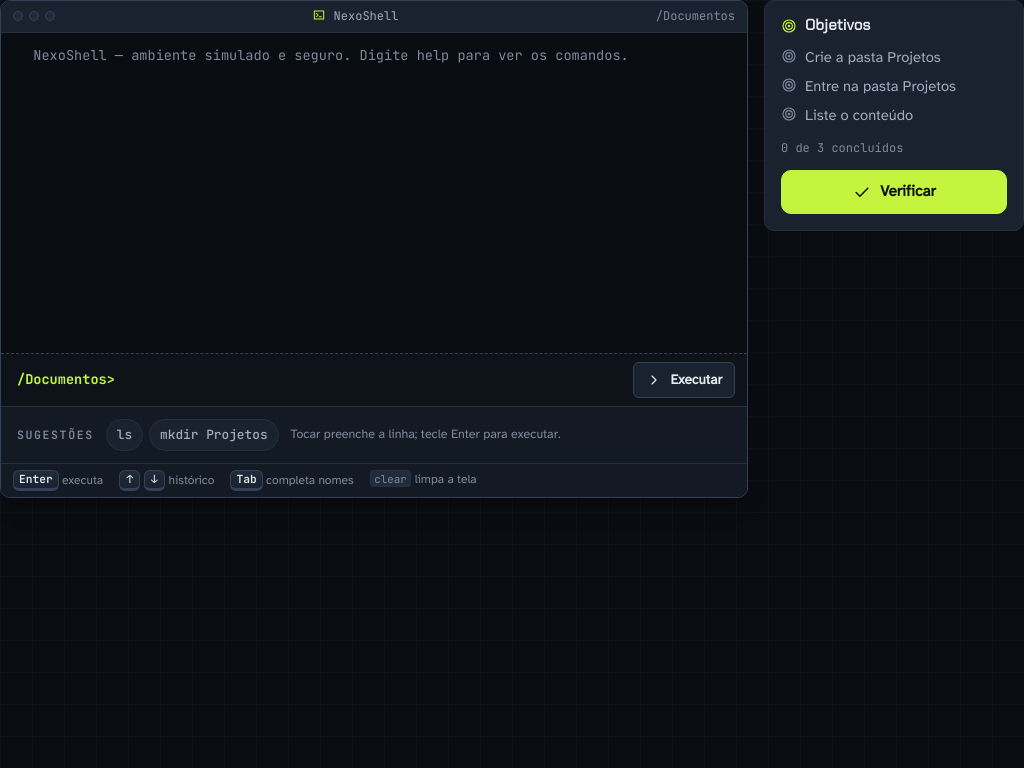
Test: TerminalChallenge › sugestões preenchem a linha sem executar
Click the button named "Preencher com mkdir Projetos" at x=214, y=435, box x1=149 y1=419 x2=279 y2=451
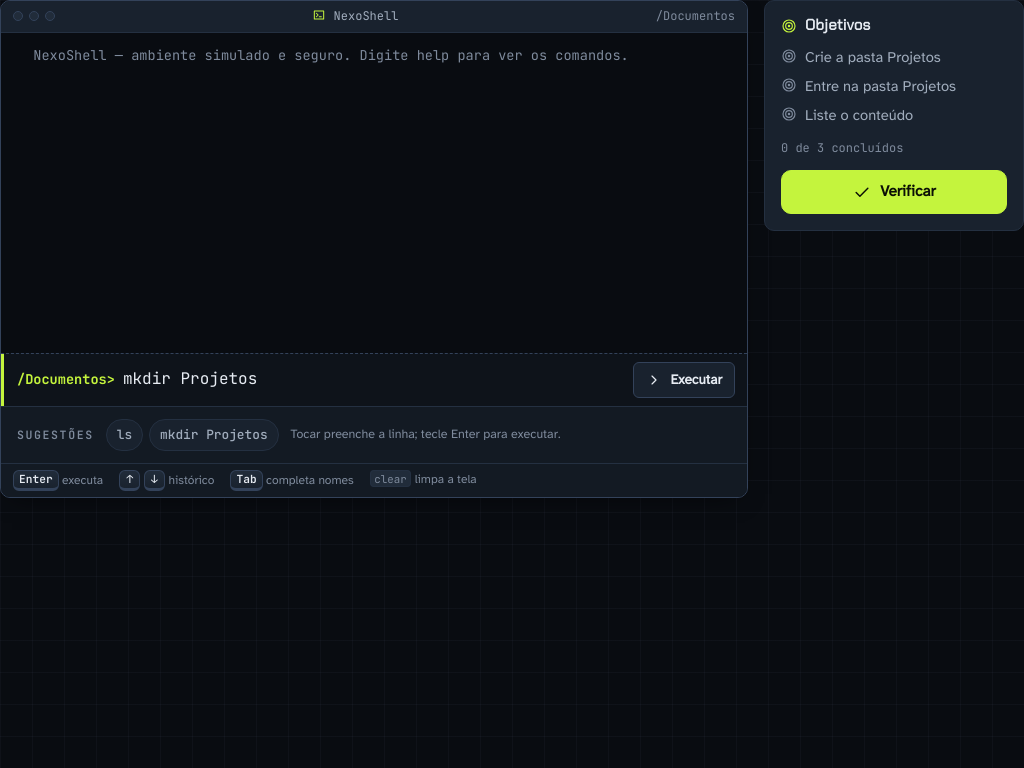
Expected: the element named "Saída do terminal" does not show "Pasta criada", x1=33 y1=46 x2=629 y2=64
Expected: the field named "Comando" holds "mkdir Projetos", x1=123 y1=362 x2=626 y2=398
Press Enter
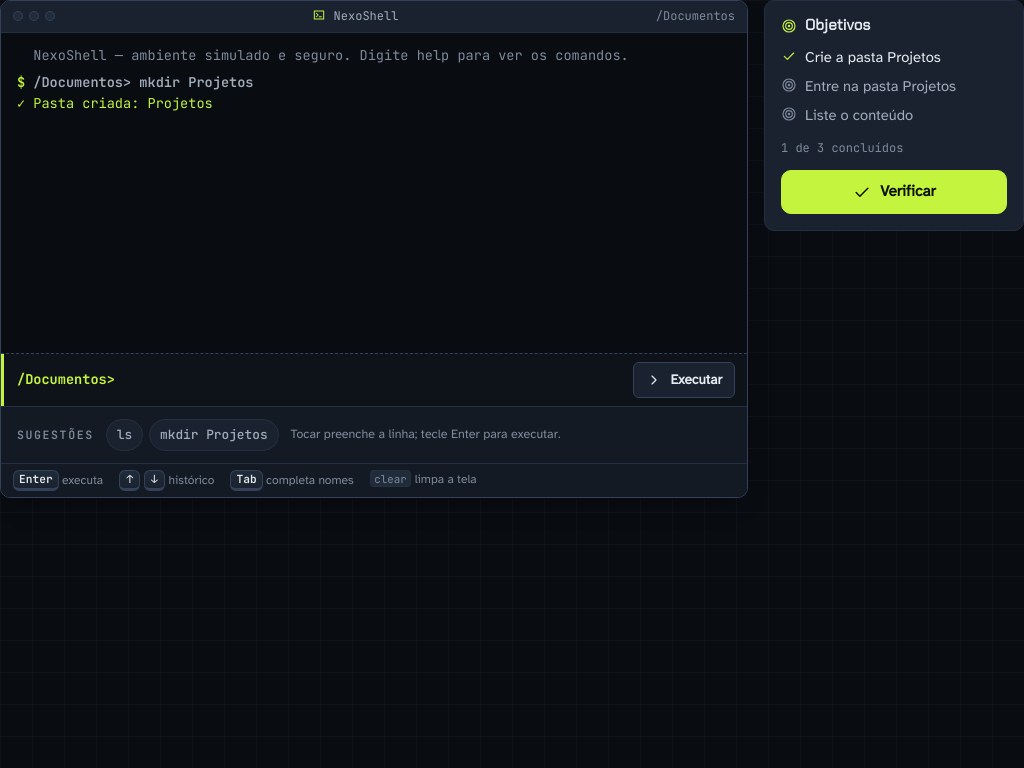
Expected: the element named "Saída do terminal" shows "Pasta criada: Projetos", x1=33 y1=94 x2=213 y2=112
